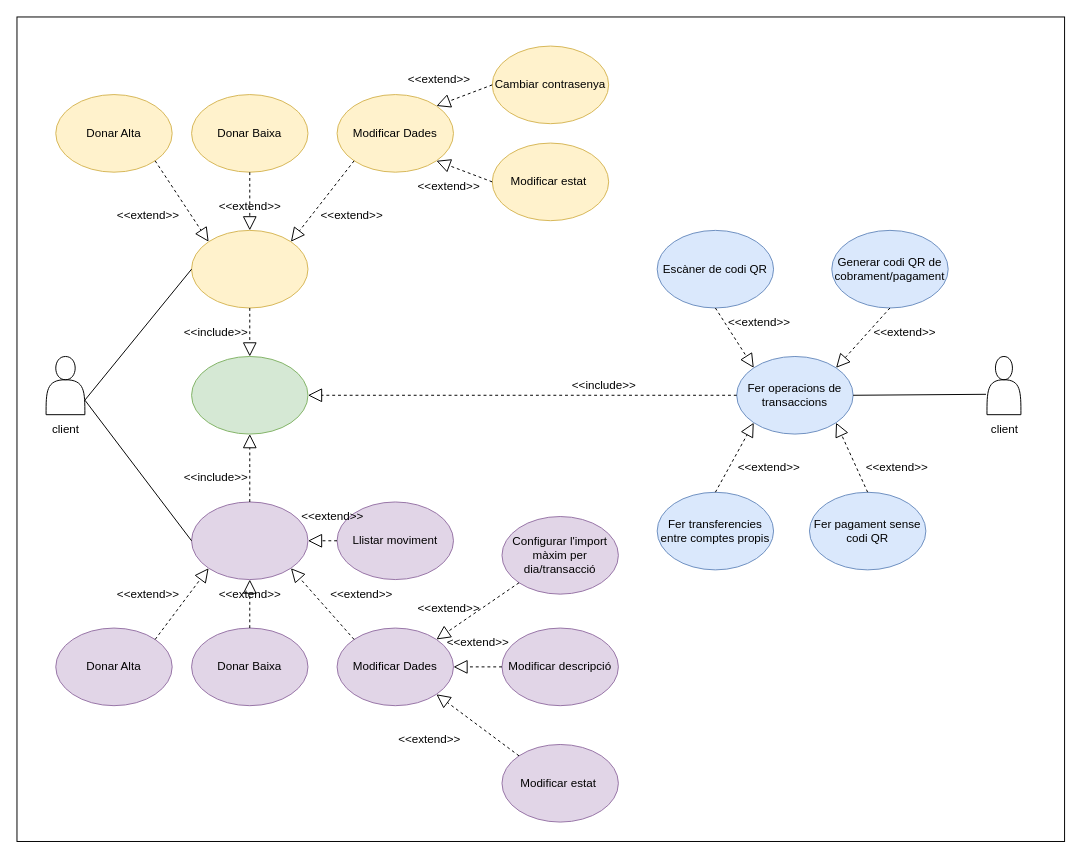
Image size: 1082x858. Some labels were removed from this diagram. Here are the shapes that lost their labels. From the top down, the centre of each, then its label:
point 249,268: Mantenir usuari
point 249,395: Identificar Usuari
point 249,540: Mantenir compte bancari
